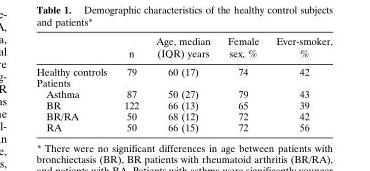table: (35, 36, 332, 132)
table column: (35, 36, 114, 132), (146, 36, 218, 132), (266, 36, 332, 132), (218, 36, 266, 132), (114, 36, 146, 132)
table column header: (35, 36, 332, 63)
table projected row header: (35, 77, 332, 88)
table row: (35, 36, 332, 63), (35, 63, 332, 77), (35, 88, 332, 100), (35, 77, 332, 88), (35, 100, 332, 111), (35, 111, 332, 122), (35, 122, 332, 132)
